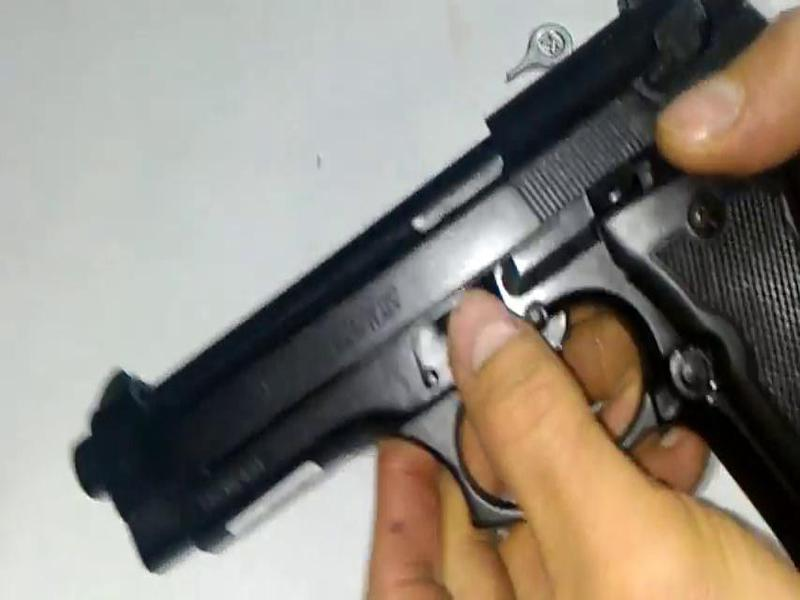Pistola: (65, 4, 800, 582)
